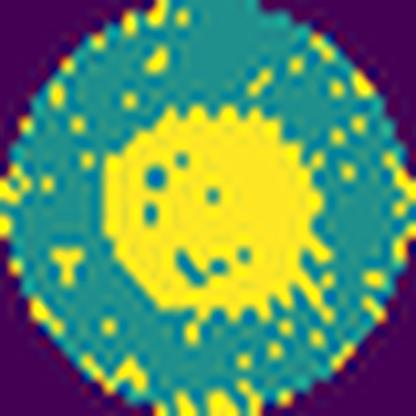Center: (102, 104, 332, 321)
